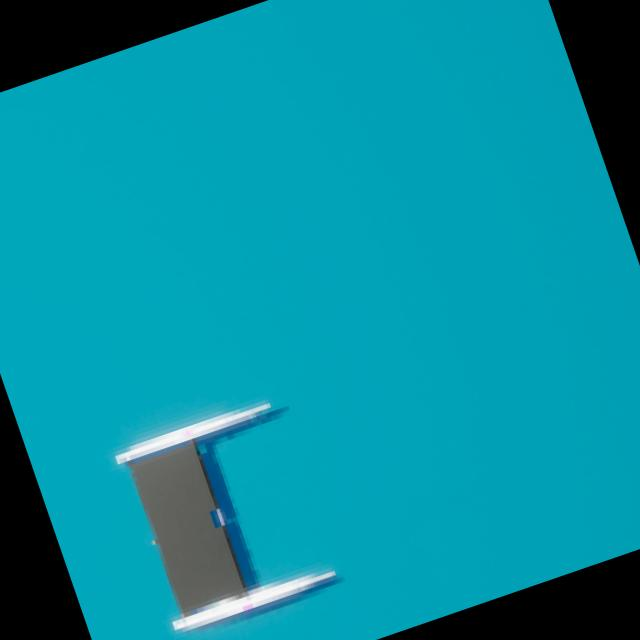boat: (105, 386, 348, 640)
drone: (132, 444, 245, 614)
